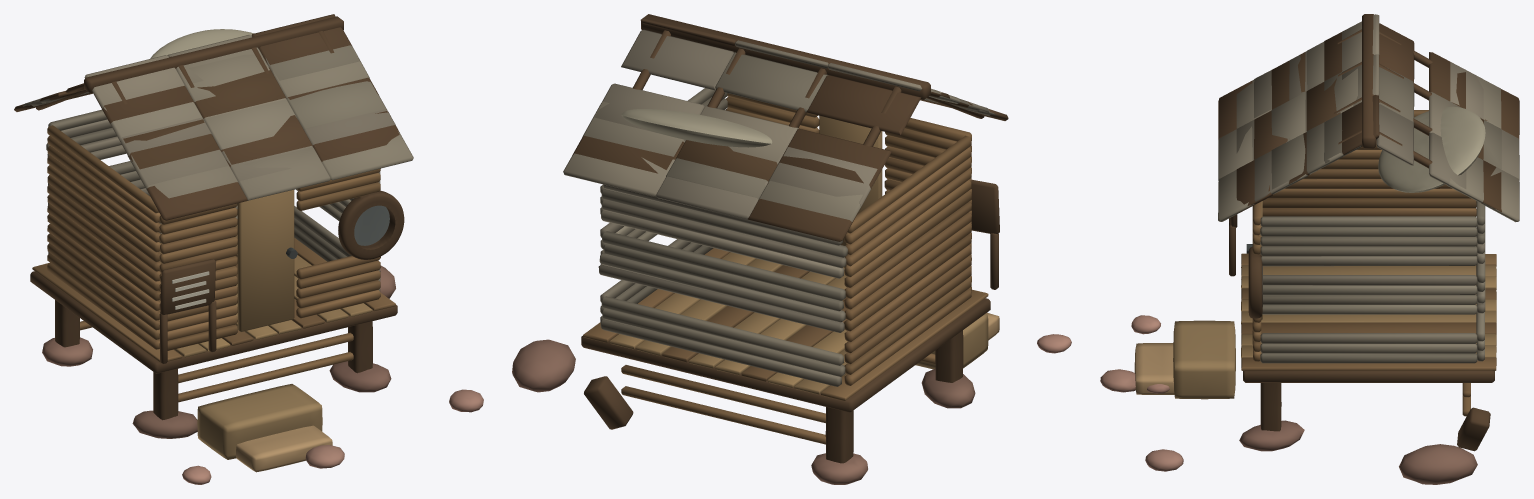
File: lookout_hut_b.glb
The picture shows the model from 3 angles, left to right: view 1: azimuth 30°, elevation 25°; view 2: azimuth 150°, elevation 25°; view 3: azimuth 270°, elevation 25°; orthographic projection. The views are drawn at different scales.
Parts seen in each view (by area): view 1: Surface; view 2: Surface; view 3: Surface.
Boxes of the visible parts, bbox=[...] form: Surface: bbox=[14, 14, 483, 484]; Surface: bbox=[512, 14, 1071, 484]; Surface: bbox=[1100, 14, 1519, 484].
Bounding box in the file's own units: 5.75 × 5.17 × 6.
